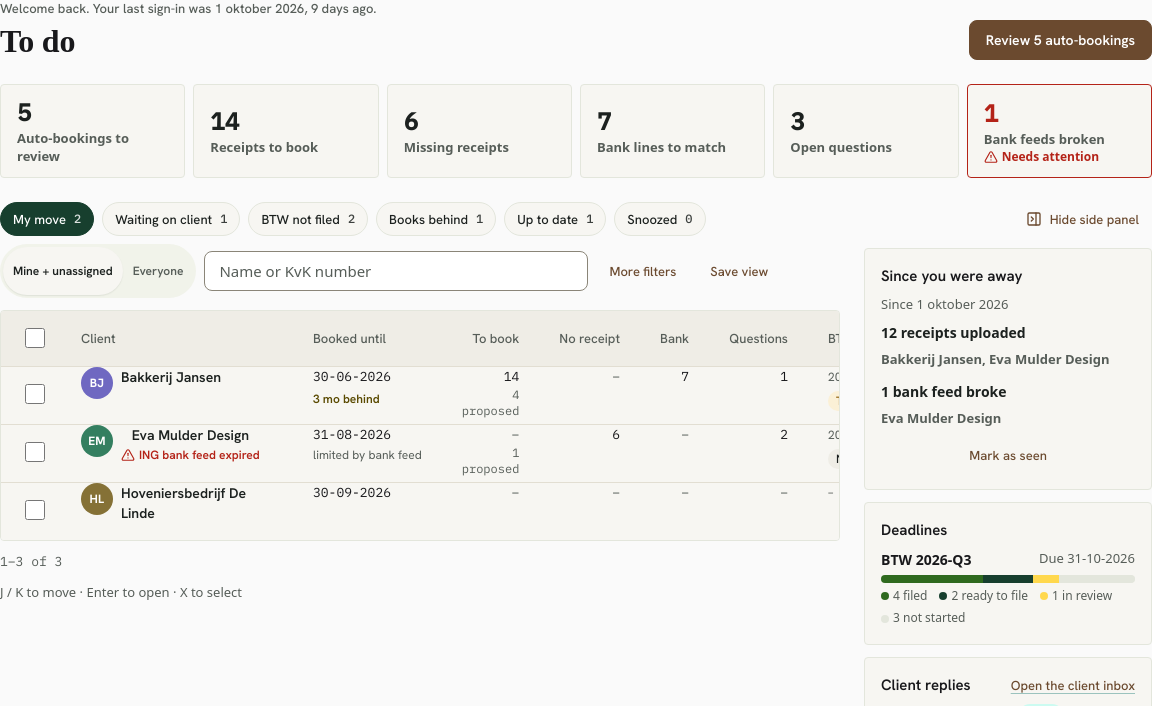
Scenario: bulk actions › assigns the selection and reports a partial failure per client
Expected: the row with test id "firm-row-adm-1" is shown, [1,367,840,425]
Click the checkbox with test id "firm-select-adm-1" at [35, 394], box [25,370,45,418]
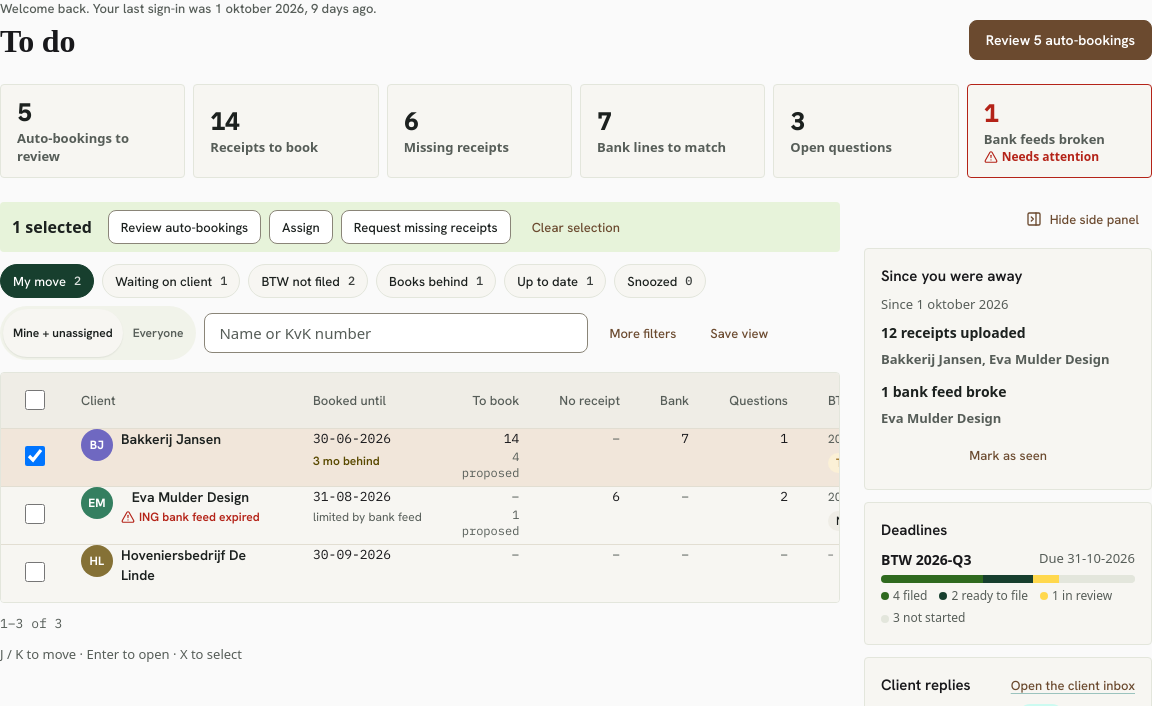
Click the checkbox with test id "firm-select-adm-2" at [35, 514], box [25,490,45,538]
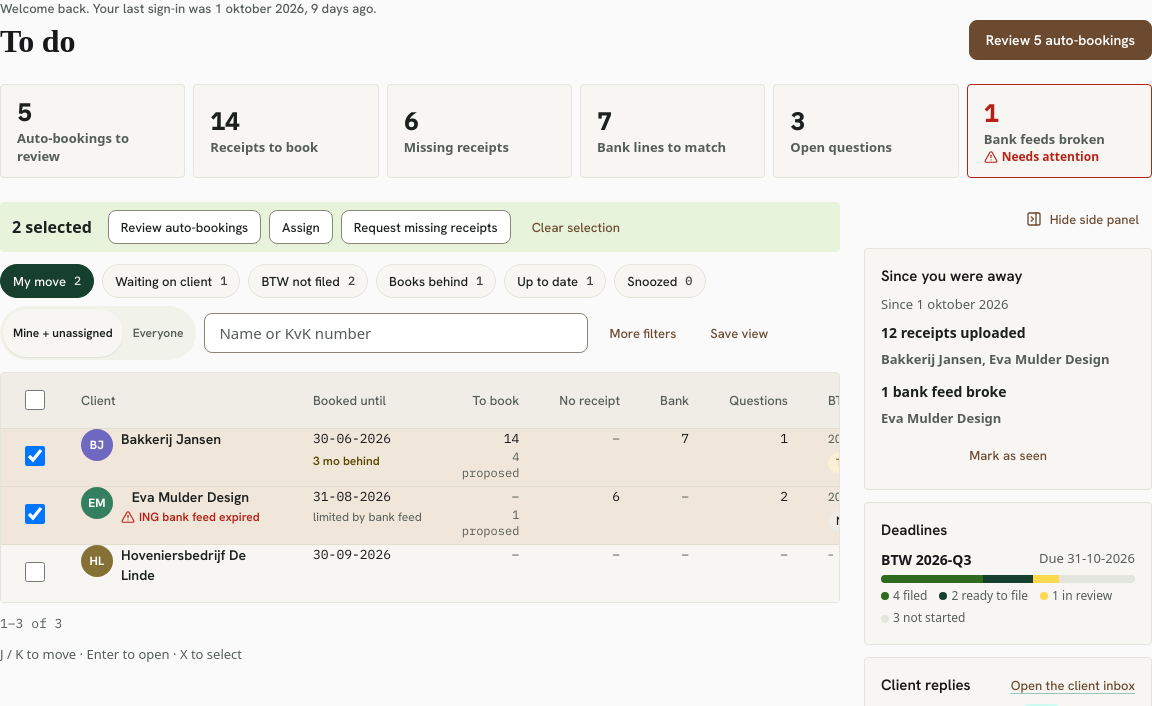
Result: the element with test id "firm-bulk" shows "2 selected" at [12,216,92,238]
Click the button with test id "firm-bulk-assign" at [301, 227], box [269,210,333,244]
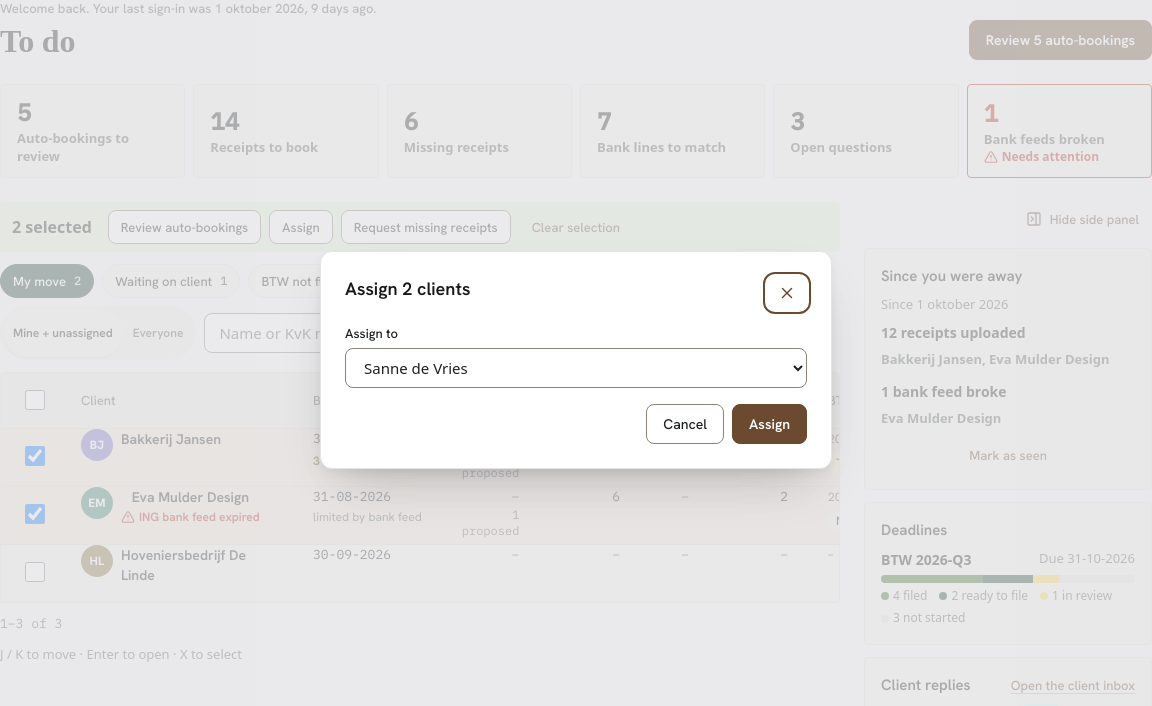
Result: the heading reads "Assign 2 clients" at [345,277,470,300]
Result: the dropdown with test id "firm-assign-user" shows "Sanne de Vries"
Select "Tom Bakker" in the dropdown with test id "firm-assign-user" at [576, 368], box [345,348,807,388]
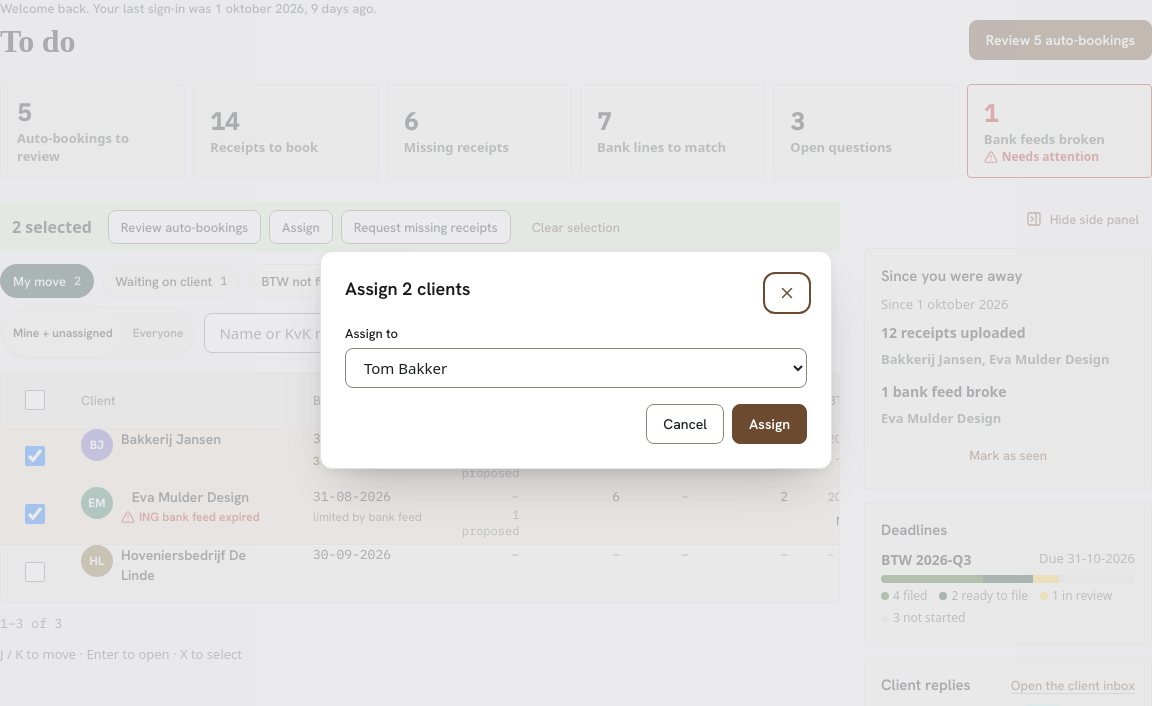
Click the button with test id "firm-assign-submit" at [770, 424], box [732,404,807,444]
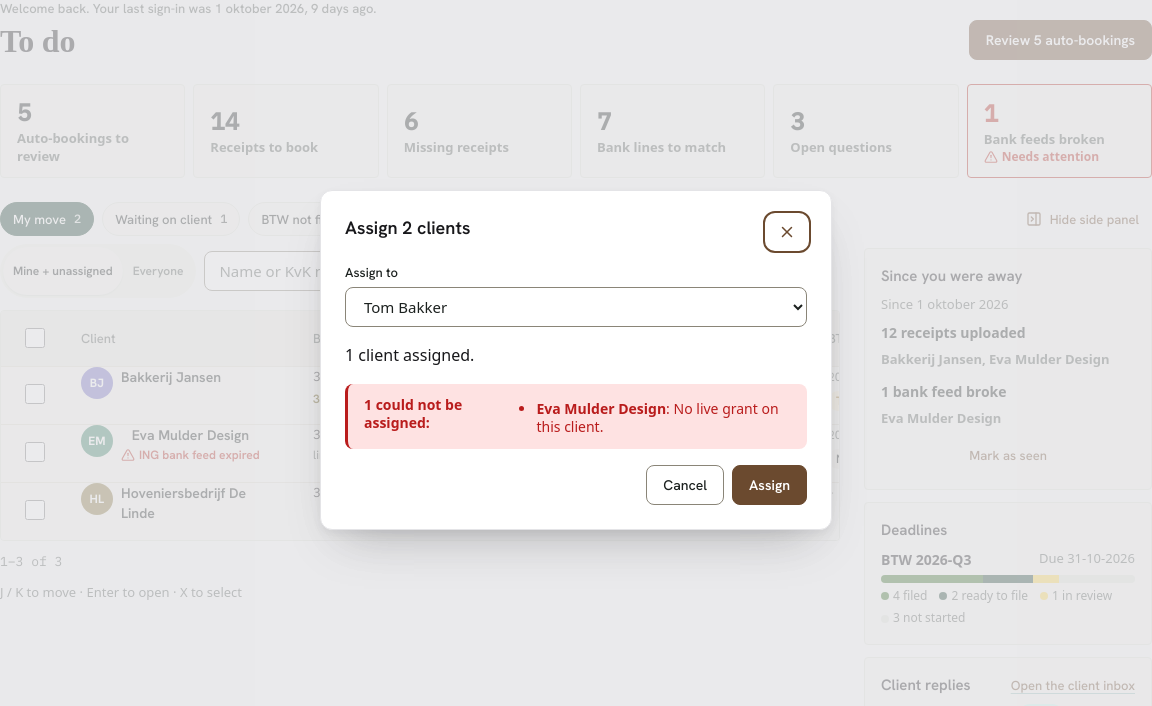
Result: the message with test id "firm-assign-done" reads "1 client assigned." at [345,344,474,366]
Result: the message with test id "firm-assign-failures" shows "1 could not be assigned:" at [364,394,462,432]
Result: the message with test id "firm-assign-failures" shows "Eva Mulder Design: No live grant on this client." at [345,384,807,449]
